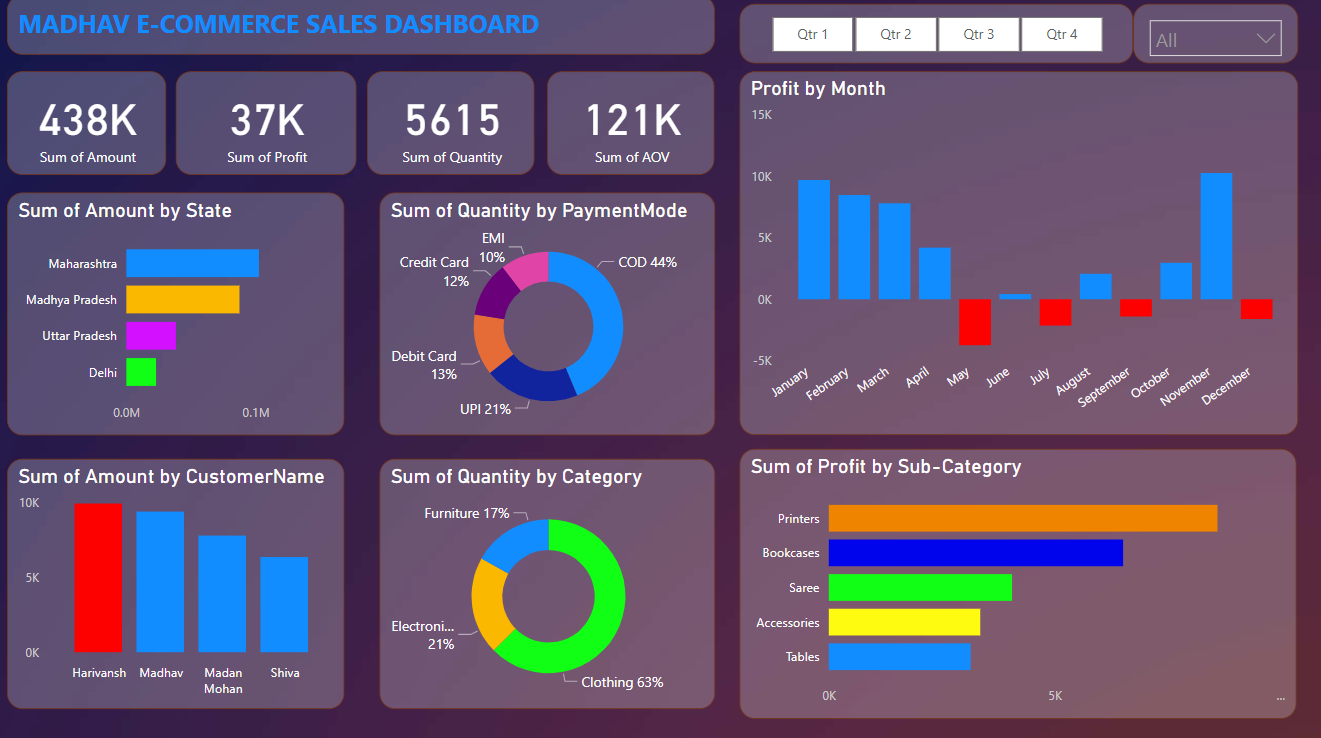

Layout of this report page (visuals, bound fields, positions):
{"tool":"powerbi","page":{"name":"Page 1","canvas":[1280,720],"ordinal":0},"visuals":[{"type":"textbox","box":[9.6,0,683.4,57.6],"z":0},{"type":"columnChart","title":" Profit by Month","fields":{"Y":["Details.Profit"],"Category":["Orders.Order Date.Variation.Date Hierarchy.Month"]},"box":[716.3,74.1,539.3,351.3],"z":1},{"type":"barChart","fields":{"Category":["Details.Sub-Category"],"Y":["Details.Profit"]},"box":[716.3,437.7,537.9,260.7],"z":2},{"type":"donutChart","fields":{"Category":["Details.Category"],"Y":["Details.Quantity"]},"box":[369.1,447.3,323.8,241.5],"z":3},{"type":"donutChart","fields":{"Y":["Details.Quantity"],"Category":["Details.PaymentMode"]},"box":[369.1,190.7,323.8,234.6],"z":4},{"type":"card","fields":{"Values":["Details.Amount"]},"box":[9.6,74.1,153.7,100.2],"z":5},{"type":"card","fields":{"Values":["Details.Profit"]},"box":[172.9,74.1,174.3,100.2],"z":6},{"type":"card","fields":{"Values":["Details.Quantity"]},"box":[356.8,74.1,161.9,100.2],"z":7},{"type":"card","fields":{"Values":["Details.AOV"]},"box":[531,74.1,161.9,100.2],"z":8},{"type":"barChart","fields":{"Category":["Orders.State"],"Y":["Details.Amount"]},"box":[9.6,190.7,325.2,234.6],"z":9},{"type":"columnChart","fields":{"Category":["Orders.CustomerName"],"Y":["Details.Amount"]},"box":[9.6,447.3,325.2,241.5],"z":10},{"type":"slicer","fields":{"Values":["Orders.Order Date.Variation.Date Hierarchy.Quarter"]},"box":[716.3,8.2,380.1,57.6],"z":11},{"type":"slicer","fields":{"Values":["Orders.State"]},"box":[1096.4,8.2,159.2,57.6],"z":12}]}

Visuals, with their boxes in screenshot pixels (x1, y1, x2, y2), scaled from the page's 1280x720 canvas onto the 1321x738 screenshot:
textbox: <bbox>10, 0, 715, 59</bbox>
" Profit by Month" columnChart: <bbox>739, 76, 1296, 436</bbox>
barChart - Details.Sub-Category x Details.Profit: <bbox>739, 449, 1294, 716</bbox>
donutChart - Details.Category x Details.Quantity: <bbox>381, 458, 715, 706</bbox>
donutChart - Details.Quantity x Details.PaymentMode: <bbox>381, 195, 715, 436</bbox>
card - Details.Amount: <bbox>10, 76, 169, 179</bbox>
card - Details.Profit: <bbox>178, 76, 358, 179</bbox>
card - Details.Quantity: <bbox>368, 76, 535, 179</bbox>
card - Details.AOV: <bbox>548, 76, 715, 179</bbox>
barChart - Orders.State x Details.Amount: <bbox>10, 195, 346, 436</bbox>
columnChart - Orders.CustomerName x Details.Amount: <bbox>10, 458, 346, 706</bbox>
slicer - Orders.Order Date.Variation.Date Hierarchy.Quarter: <bbox>739, 8, 1132, 67</bbox>
slicer - Orders.State: <bbox>1132, 8, 1296, 67</bbox>
